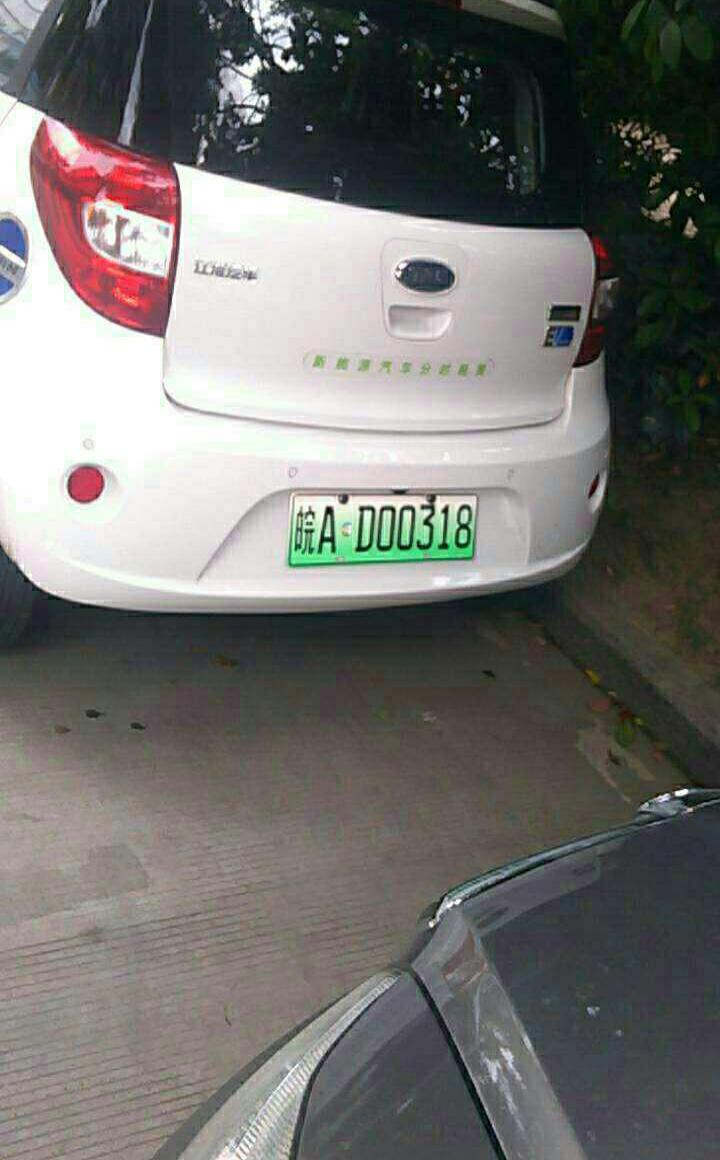car: (282, 497, 484, 572)
